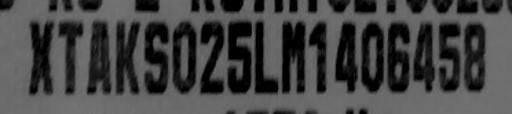letter: (142, 20, 170, 92), (170, 20, 198, 92), (26, 20, 54, 92), (114, 20, 142, 92), (198, 19, 224, 93), (57, 20, 83, 94), (86, 20, 112, 94), (226, 19, 252, 91), (254, 19, 280, 91), (280, 21, 306, 91), (411, 21, 437, 91), (461, 21, 487, 91), (334, 21, 358, 91), (360, 22, 384, 90), (387, 22, 411, 90), (438, 22, 462, 90), (308, 21, 330, 91)
